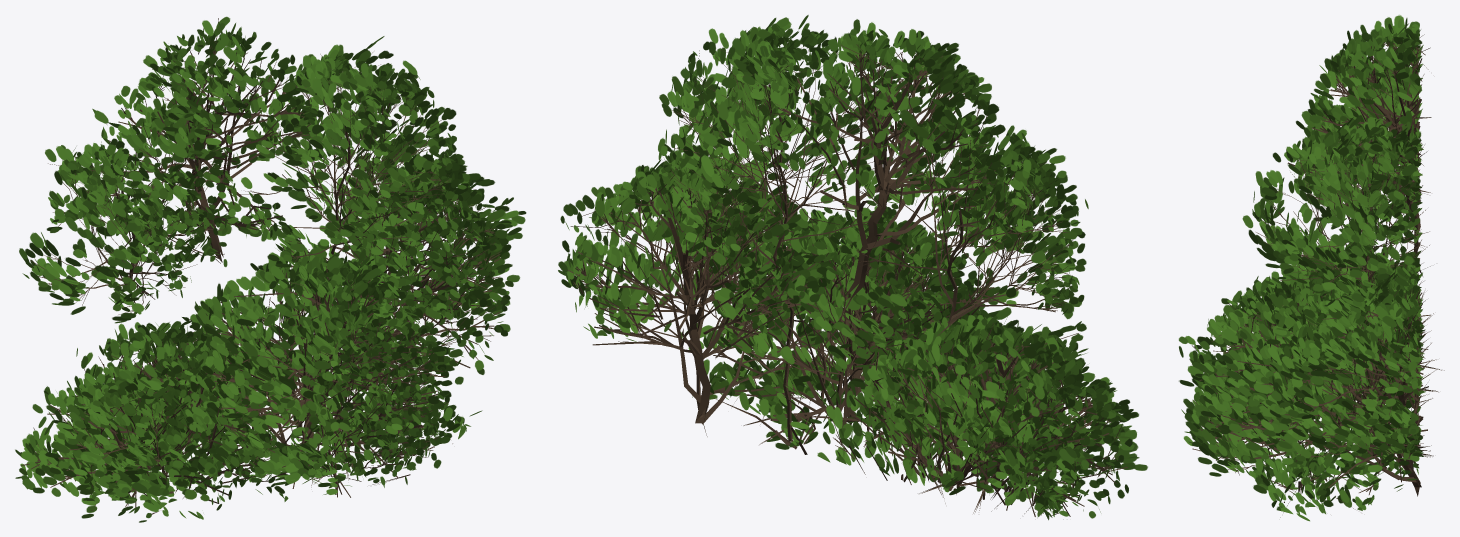
3 views of the same model, side by side, from view 1: azimuth 30°, elevation 25°; view 2: azimuth 150°, elevation 25°; view 3: azimuth 270°, elevation 25° (orthographic). The views are drawn at different scales.
Parts seen in each view (by area): view 1: oak 01.001_trunk_Mat.001_0.308; view 2: oak 01.001_trunk_Mat.001_0.308; view 3: oak 01.001_trunk_Mat.001_0.308.
Part boxes in pixels (box(x1,y1,x2,y2)): oak 01.001_trunk_Mat.001_0.308: box(15, 16, 526, 522); oak 01.001_trunk_Mat.001_0.308: box(558, 15, 1147, 520); oak 01.001_trunk_Mat.001_0.308: box(1178, 15, 1444, 521).
Bounding box in the file's own units: 4.81 × 3.84 × 2.25.
Materials: 2 (1 with a texture image).
